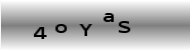4: (32, 25, 48, 40)
S: (117, 19, 131, 33)
Y: (78, 21, 93, 37)
a: (102, 11, 116, 22)
o: (54, 22, 68, 33)
